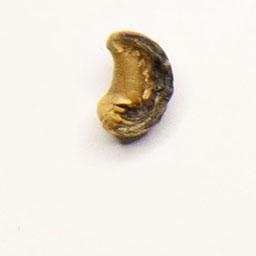defect: (89, 24, 182, 150)
